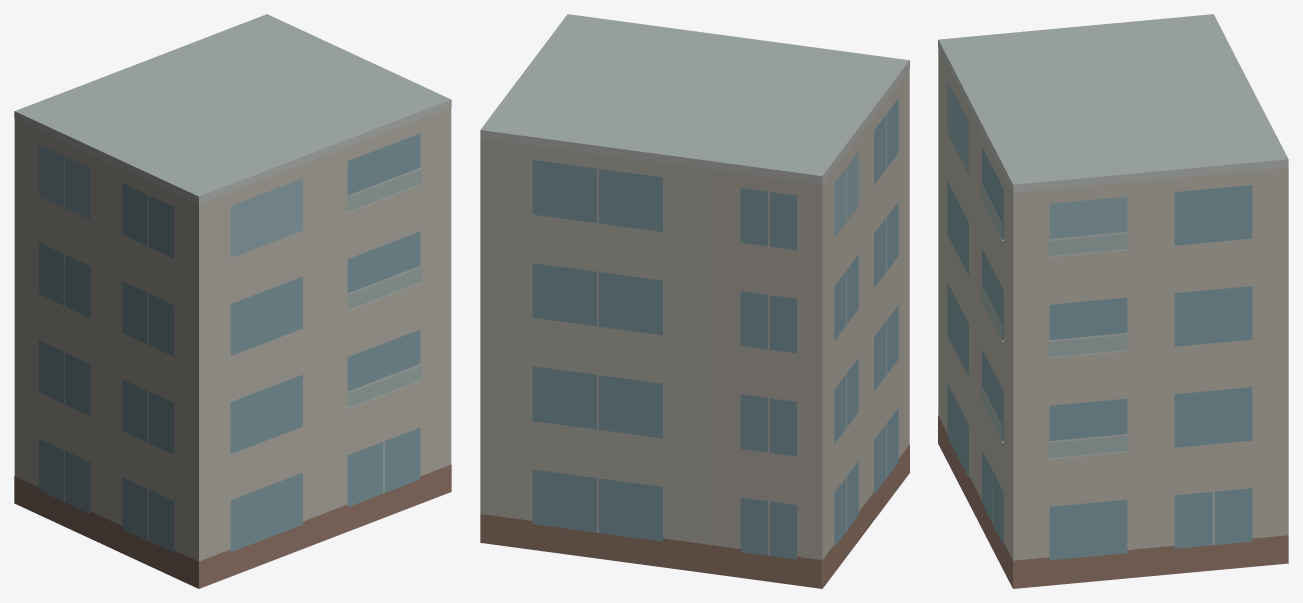
Rendered from residential-488e45cd-3299-4978-8b1f-8929e85b9bae.glb.
3 renders of one model, left to right at view 1: azimuth 30°, elevation 25°; view 2: azimuth 150°, elevation 25°; view 3: azimuth 270°, elevation 25°, orthographic. The views are drawn at different scales.
Visible parts, largest first — view 1: residential-488e45cd-3299-4978-8b1f-8929e85b9bae.tmp; view 2: residential-488e45cd-3299-4978-8b1f-8929e85b9bae.tmp; view 3: residential-488e45cd-3299-4978-8b1f-8929e85b9bae.tmp.
Part boxes in pixels (x1,y1,x2,y2): residential-488e45cd-3299-4978-8b1f-8929e85b9bae.tmp: (14,14,451,588); residential-488e45cd-3299-4978-8b1f-8929e85b9bae.tmp: (480,14,909,588); residential-488e45cd-3299-4978-8b1f-8929e85b9bae.tmp: (938,14,1288,588).
Bounding box in the file's own units: 11.06 × 12.2 × 9.6.
